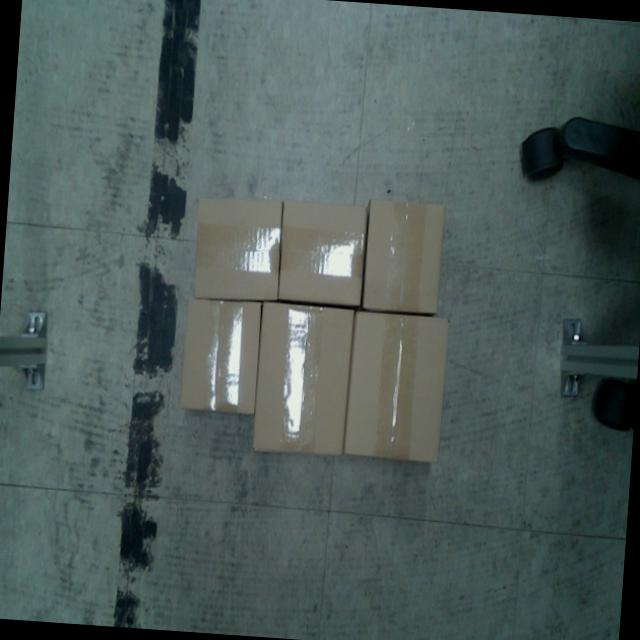box: (250, 302, 356, 458), (344, 310, 450, 463), (358, 196, 448, 314), (190, 193, 284, 303), (275, 198, 368, 308), (178, 296, 263, 415)
